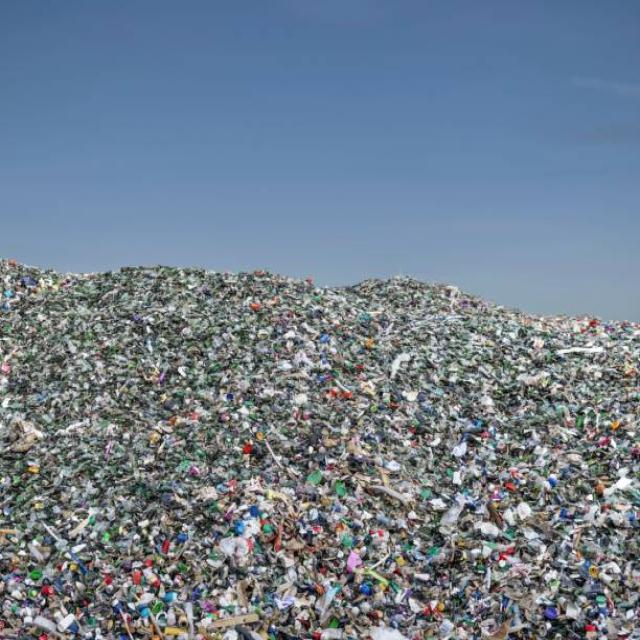trash: (6, 254, 634, 618)
